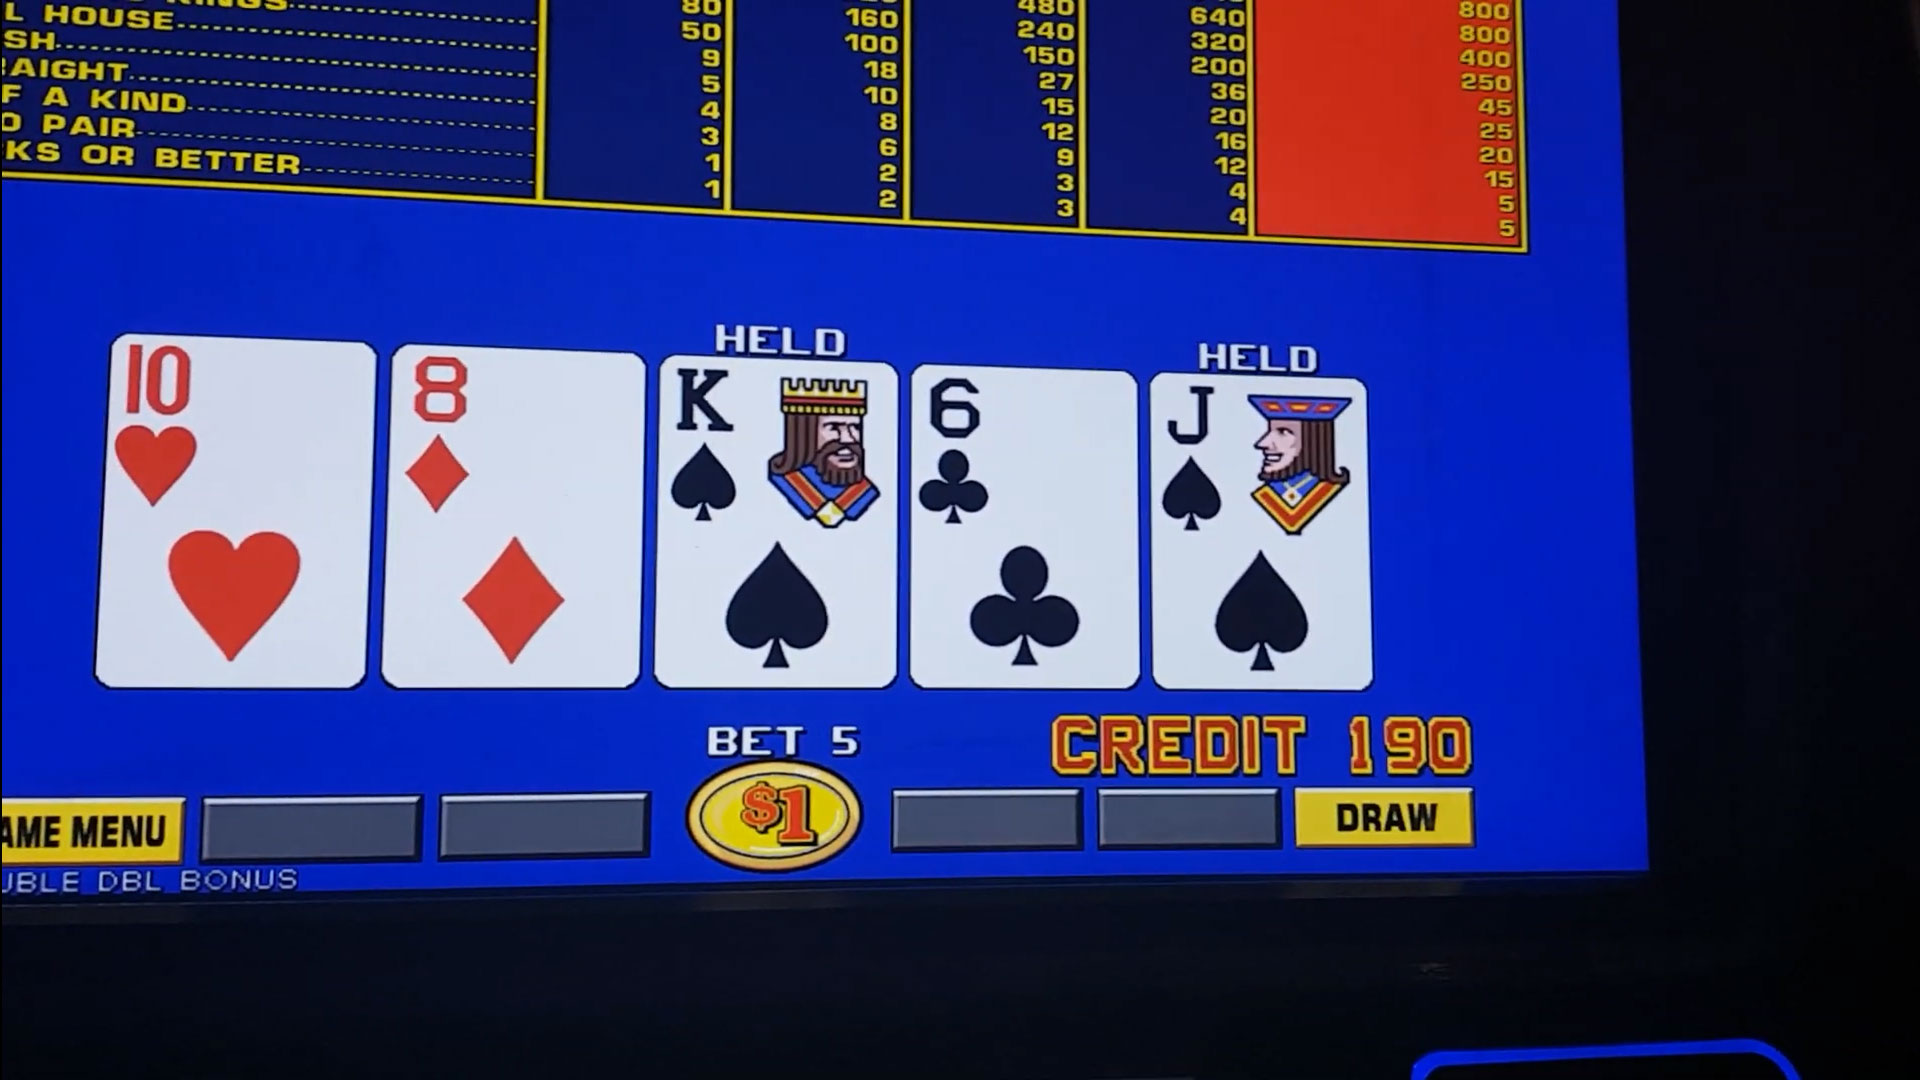C6: (916, 378, 1135, 531)
D8: (400, 356, 636, 516)
HT: (119, 342, 369, 514)
SJ: (1154, 378, 1361, 531)
SK: (659, 368, 893, 531)
